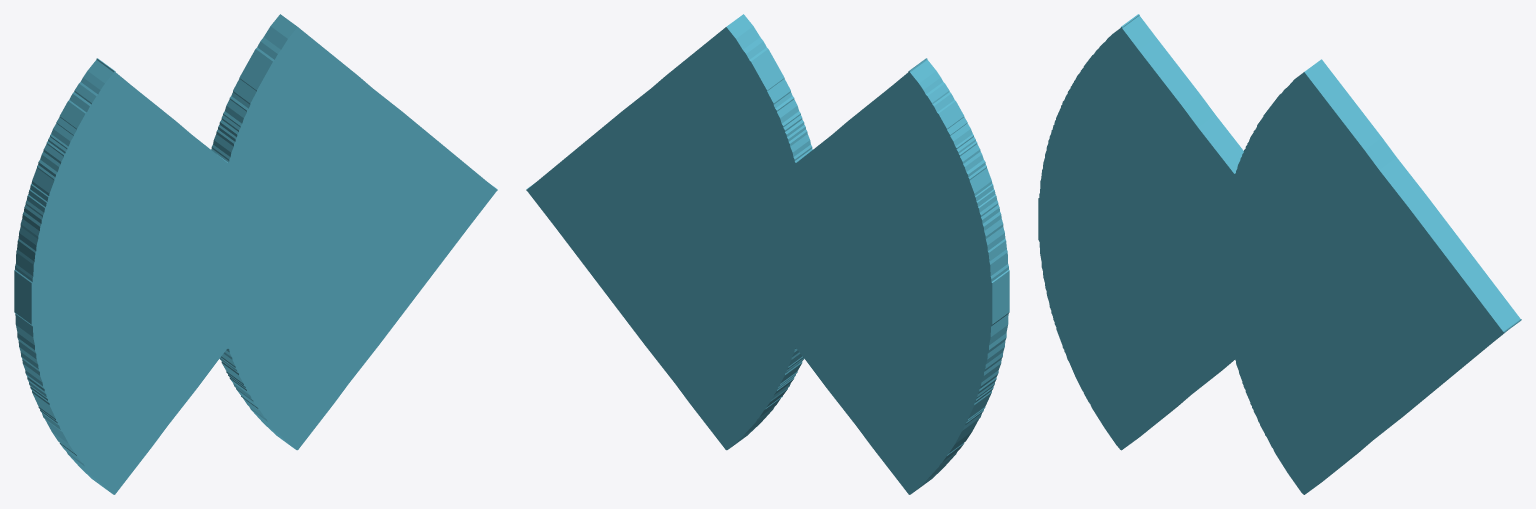
File: bytecorp-chevron.glb
3 renders of one model, left to right at view 1: azimuth 30°, elevation 25°; view 2: azimuth 150°, elevation 25°; view 3: azimuth 330°, elevation 25°, orthographic.
Visible parts, largest first — view 1: geometry_0; view 2: geometry_0; view 3: geometry_0.
Boxes of the visible parts, box(x1,y1,x2,y2) form: geometry_0: box(14, 14, 497, 494); geometry_0: box(526, 14, 1009, 494); geometry_0: box(1038, 14, 1521, 494).
Size of the model in its own units: 2 by 1.74 by 0.13.
